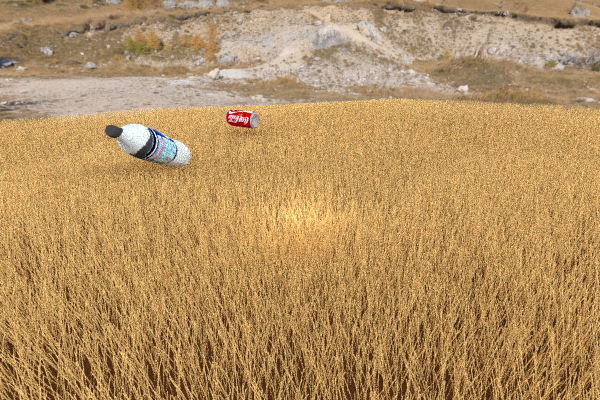Plastic Bottle: (104, 123, 190, 168), (225, 109, 258, 128)
